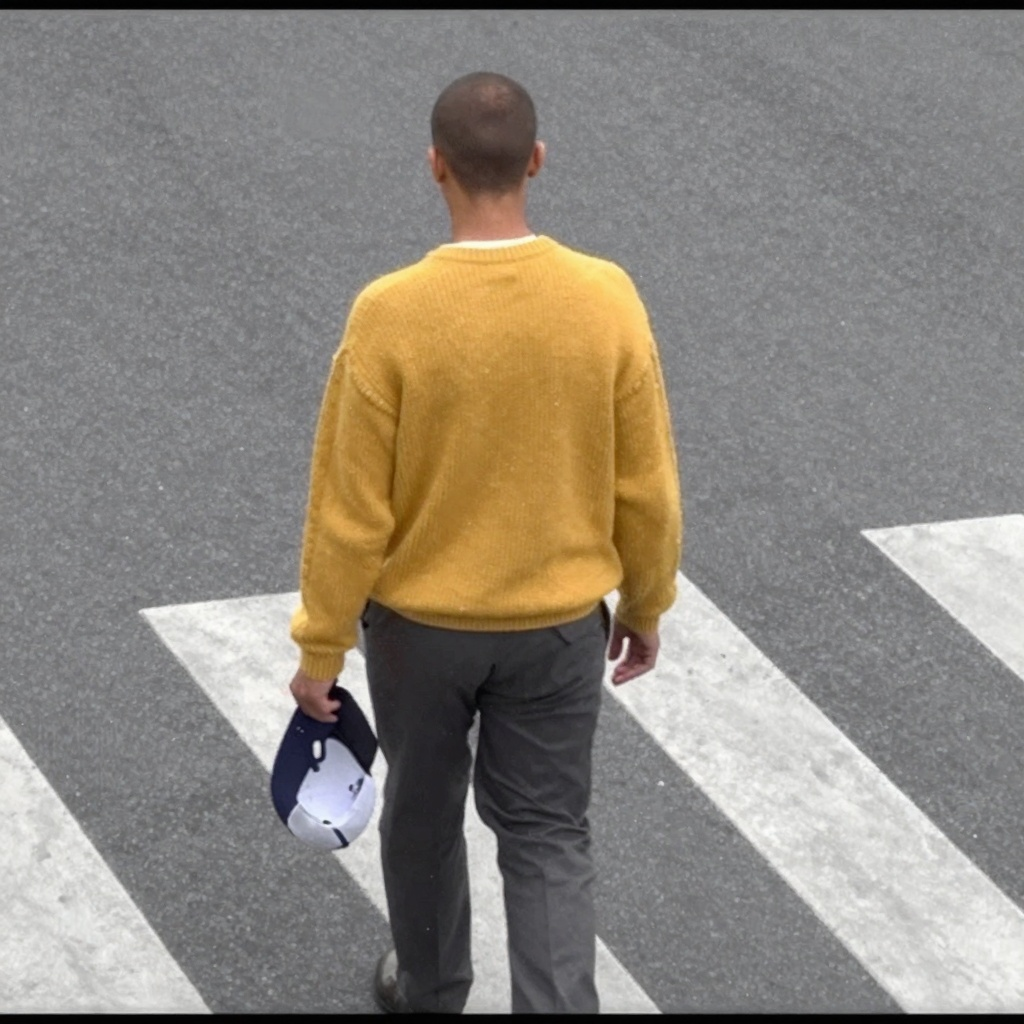Normal activity: (286, 69, 685, 1007)
